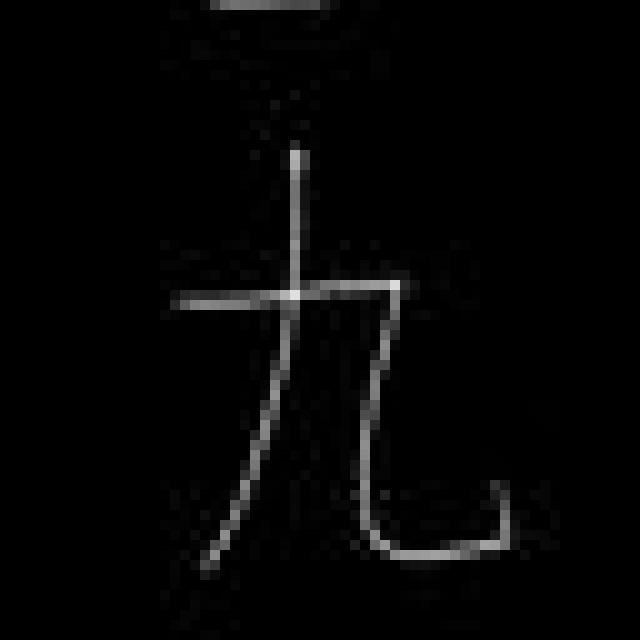9 -nine-: (170, 129, 518, 584)
